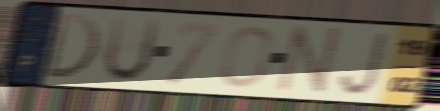7: (169, 20, 222, 87)
D: (41, 11, 103, 82)
J: (337, 30, 391, 98)
N: (273, 23, 346, 98)
O: (217, 24, 277, 90)
U: (100, 15, 165, 85)
